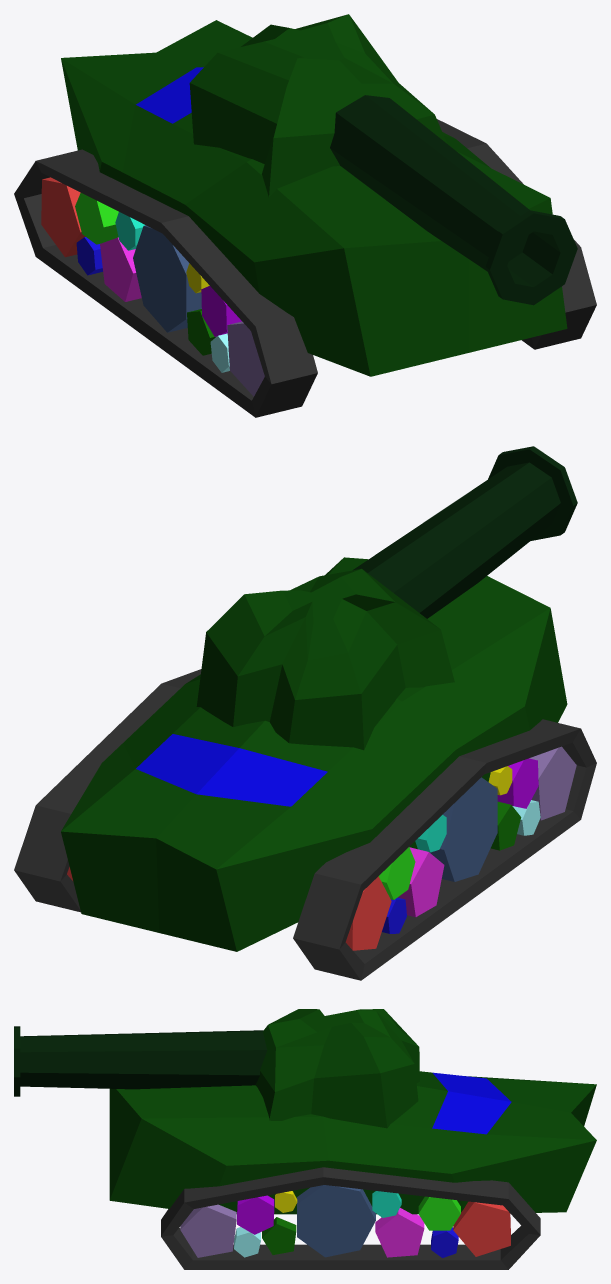
Rendered from tank_p1.fbx.
The picture shows the model from 3 angles, top to bottom: view 1: azimuth 30°, elevation 25°; view 2: azimuth 150°, elevation 25°; view 3: azimuth 270°, elevation 25°; orthographic projection. The views are drawn at different scales.
Visible parts, largest first — view 1: Plane, Circle.015, Circle.006, Plane.002; view 2: Plane, Circle.015, Circle.006, Plane.002; view 3: Plane, Circle.015, Circle.006, Plane.002.
Part boxes in pixels (box(x1,y1,x2,y2)): Plane: box(61, 14, 567, 376); Circle.015: box(14, 119, 596, 417); Circle.006: box(330, 95, 577, 305); Plane.002: box(136, 67, 203, 123); Plane: box(61, 557, 567, 951); Circle.015: box(14, 669, 596, 980); Circle.006: box(353, 446, 577, 618); Plane.002: box(136, 734, 327, 806); Plane: box(109, 1009, 596, 1214); Circle.015: box(161, 1167, 540, 1269); Circle.006: box(14, 1026, 267, 1096); Plane.002: box(432, 1072, 511, 1134).
Bounding box in the file's own units: 196 × 153 × 412.
